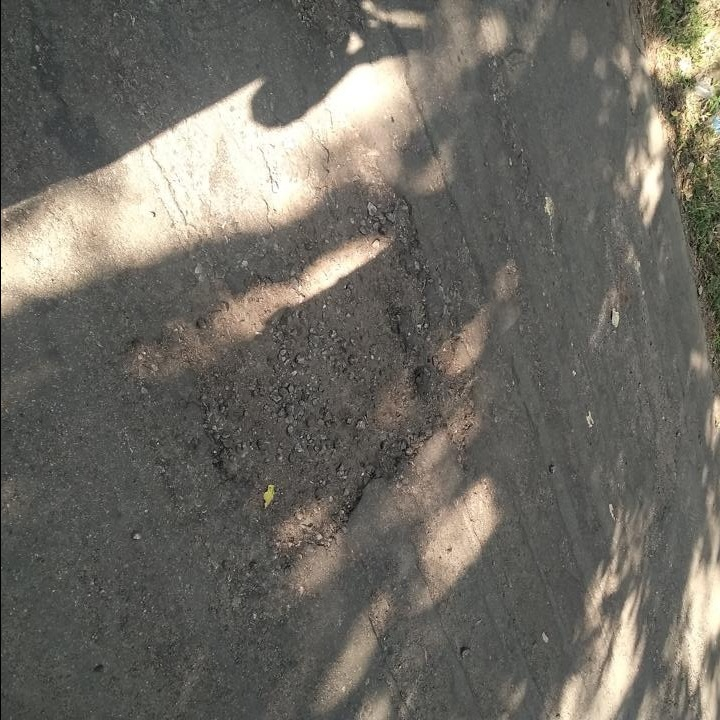pothole: (181, 176, 448, 576)
